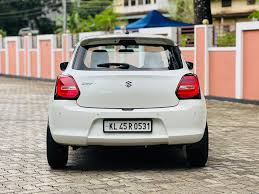Swift: (41, 32, 212, 170)
